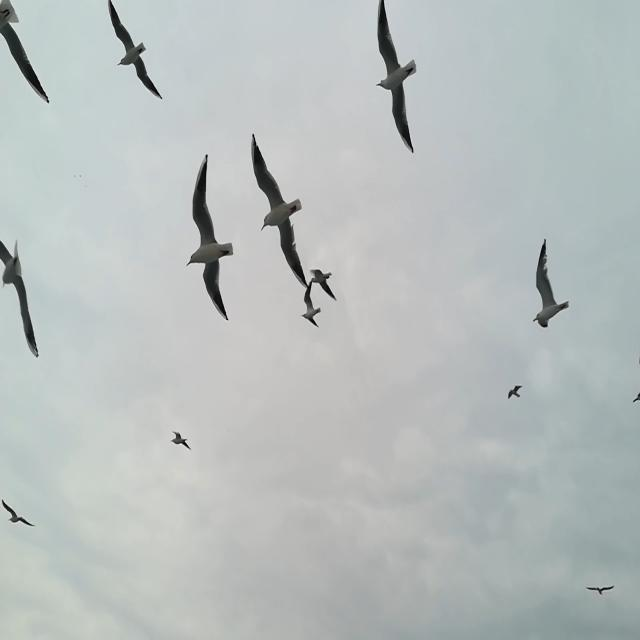bird: (252, 134, 311, 293), (185, 153, 235, 327), (373, 2, 417, 154), (106, 2, 164, 101), (0, 1, 49, 106), (0, 236, 42, 358), (532, 240, 570, 333), (304, 265, 338, 305), (1, 497, 36, 527), (302, 280, 321, 328), (169, 426, 191, 452), (584, 581, 615, 599), (506, 381, 524, 401), (631, 384, 640, 406)
